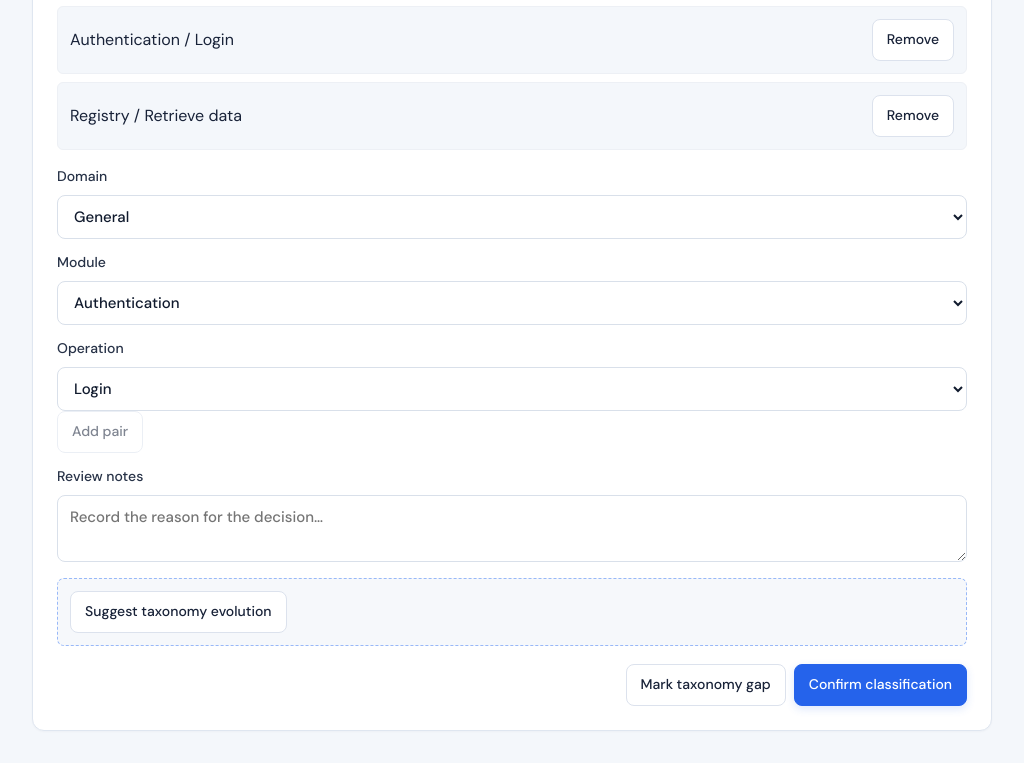
Test: a failed review keeps edited labels available for retry
(page scrolled)
What coordinates should you click on to do the following:
click the button "Confirm classification"
I would click on:
 (880, 685)
Its box is [794,664,967,706].
(page scrolled)
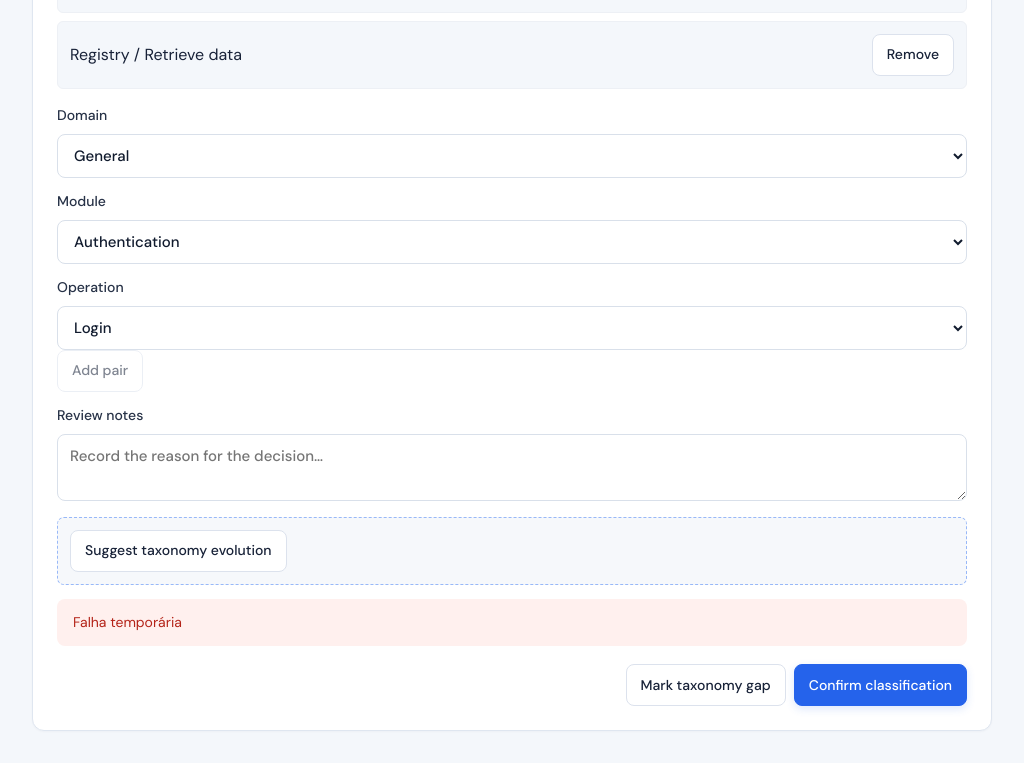
Now the text "Falha temporária" is shown, box [57,599,967,646]
